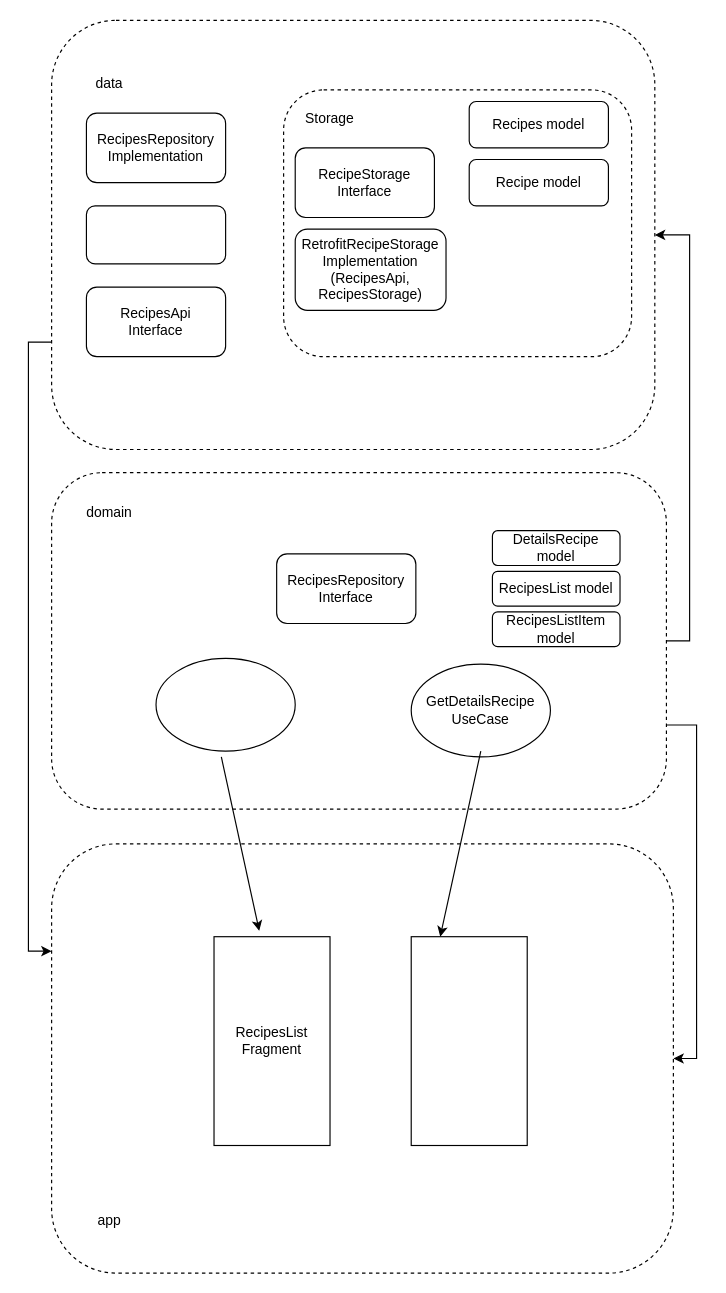
The diagram is 726 pixels wide and 1293 high, and some of its shapes have lost their labels. Here are the shapes that lost their labels. From the top down, the centre of each, then its label:
At (155,234): "Retrofit Object".
At (225,704): "GetRecipesList UseCase".
At (468,1041): "DetailsRecipe Fragment".
